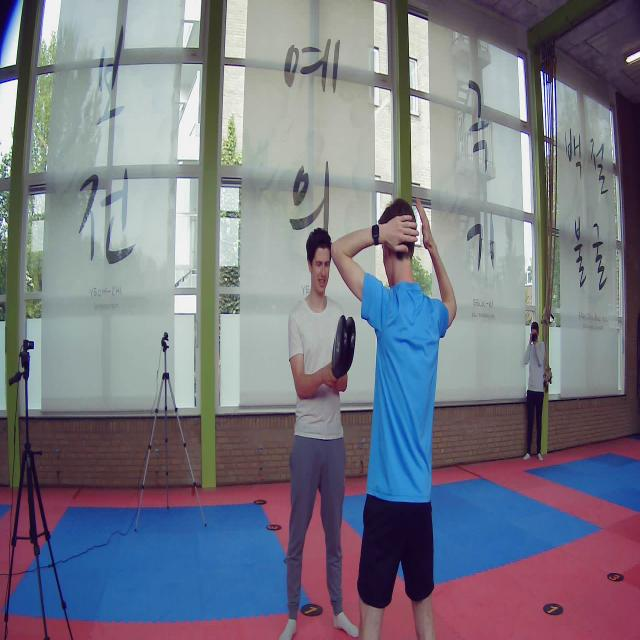paddle: (331, 315, 355, 380)
